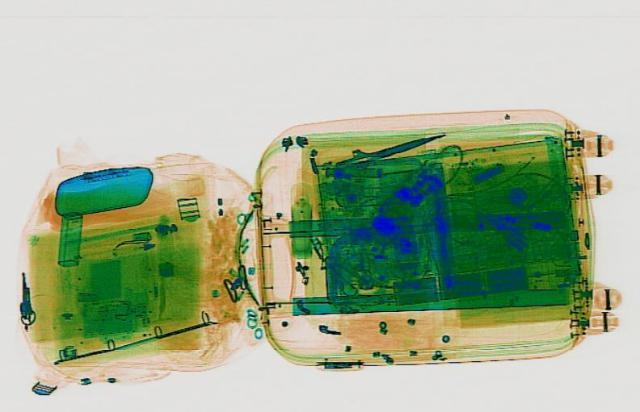Knife: (327, 125, 449, 171)
